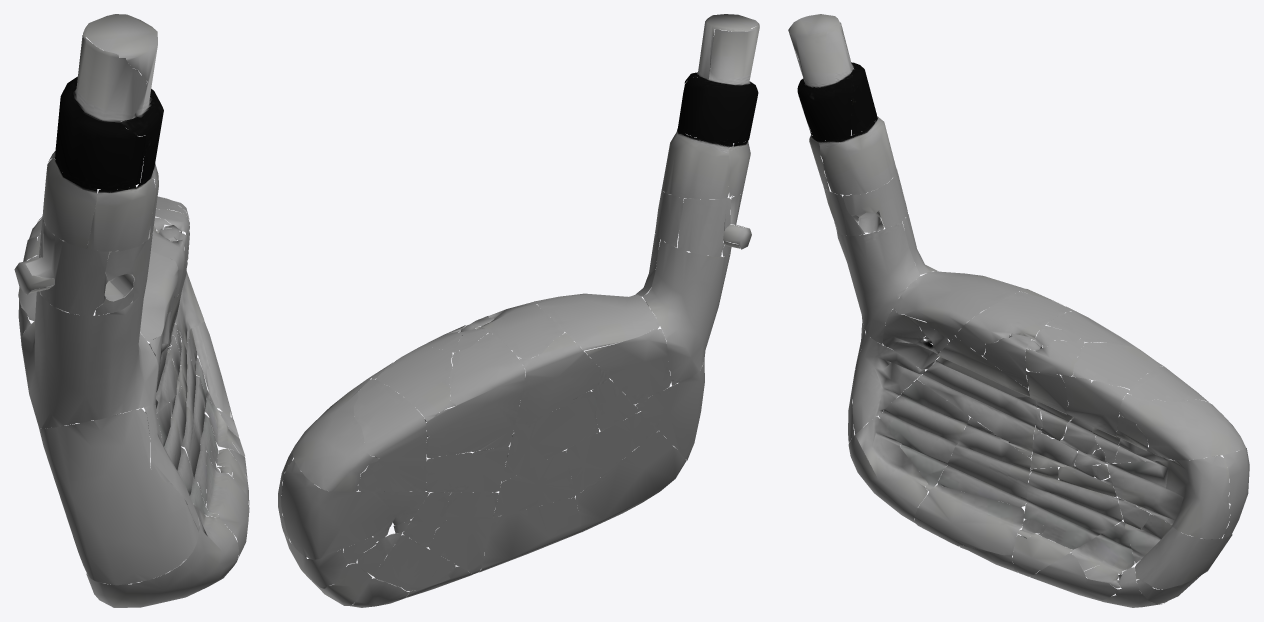
File: iron.glb
3 renders of one model, left to right at view 1: azimuth 30°, elevation 25°; view 2: azimuth 150°, elevation 25°; view 3: azimuth 270°, elevation 25°, orthographic. The views are drawn at different scales.
Parts seen in each view (by area): view 1: tripo_node_77bd11c8-7dc2-4cdb-bda3-cb892b18a553; view 2: tripo_node_77bd11c8-7dc2-4cdb-bda3-cb892b18a553; view 3: tripo_node_77bd11c8-7dc2-4cdb-bda3-cb892b18a553.
Boxes of the visible parts, x1,y1,x2,y2 form: tripo_node_77bd11c8-7dc2-4cdb-bda3-cb892b18a553: [14, 14, 249, 607]; tripo_node_77bd11c8-7dc2-4cdb-bda3-cb892b18a553: [278, 14, 759, 607]; tripo_node_77bd11c8-7dc2-4cdb-bda3-cb892b18a553: [788, 14, 1249, 607].
Size of the model in its own units: 0.6094 by 1 by 0.8561.
1 material, 1 textured.
